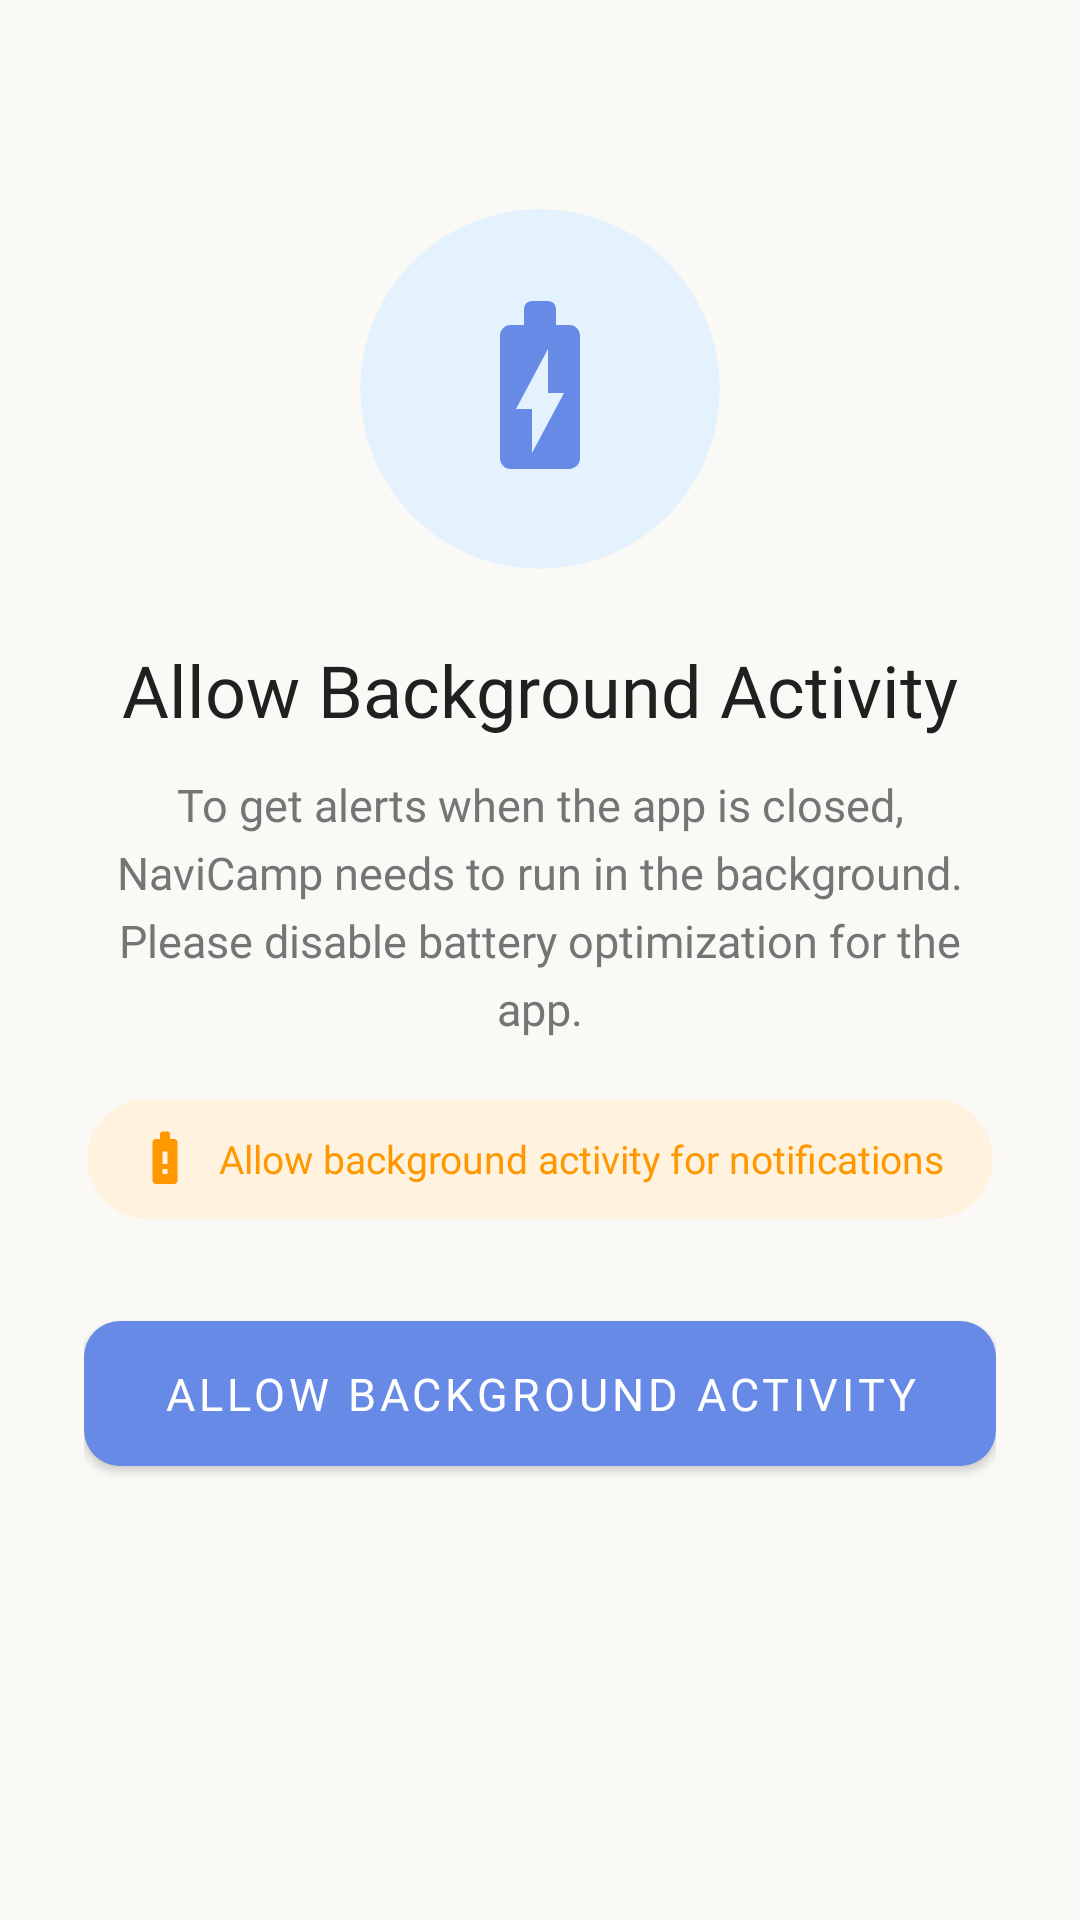

Icons on this 1080px×1920px Android screen, each with its box as (x1, y1, x2, y2):
battery alert: (152, 1131, 178, 1184)
battery charging: (500, 301, 580, 469)
